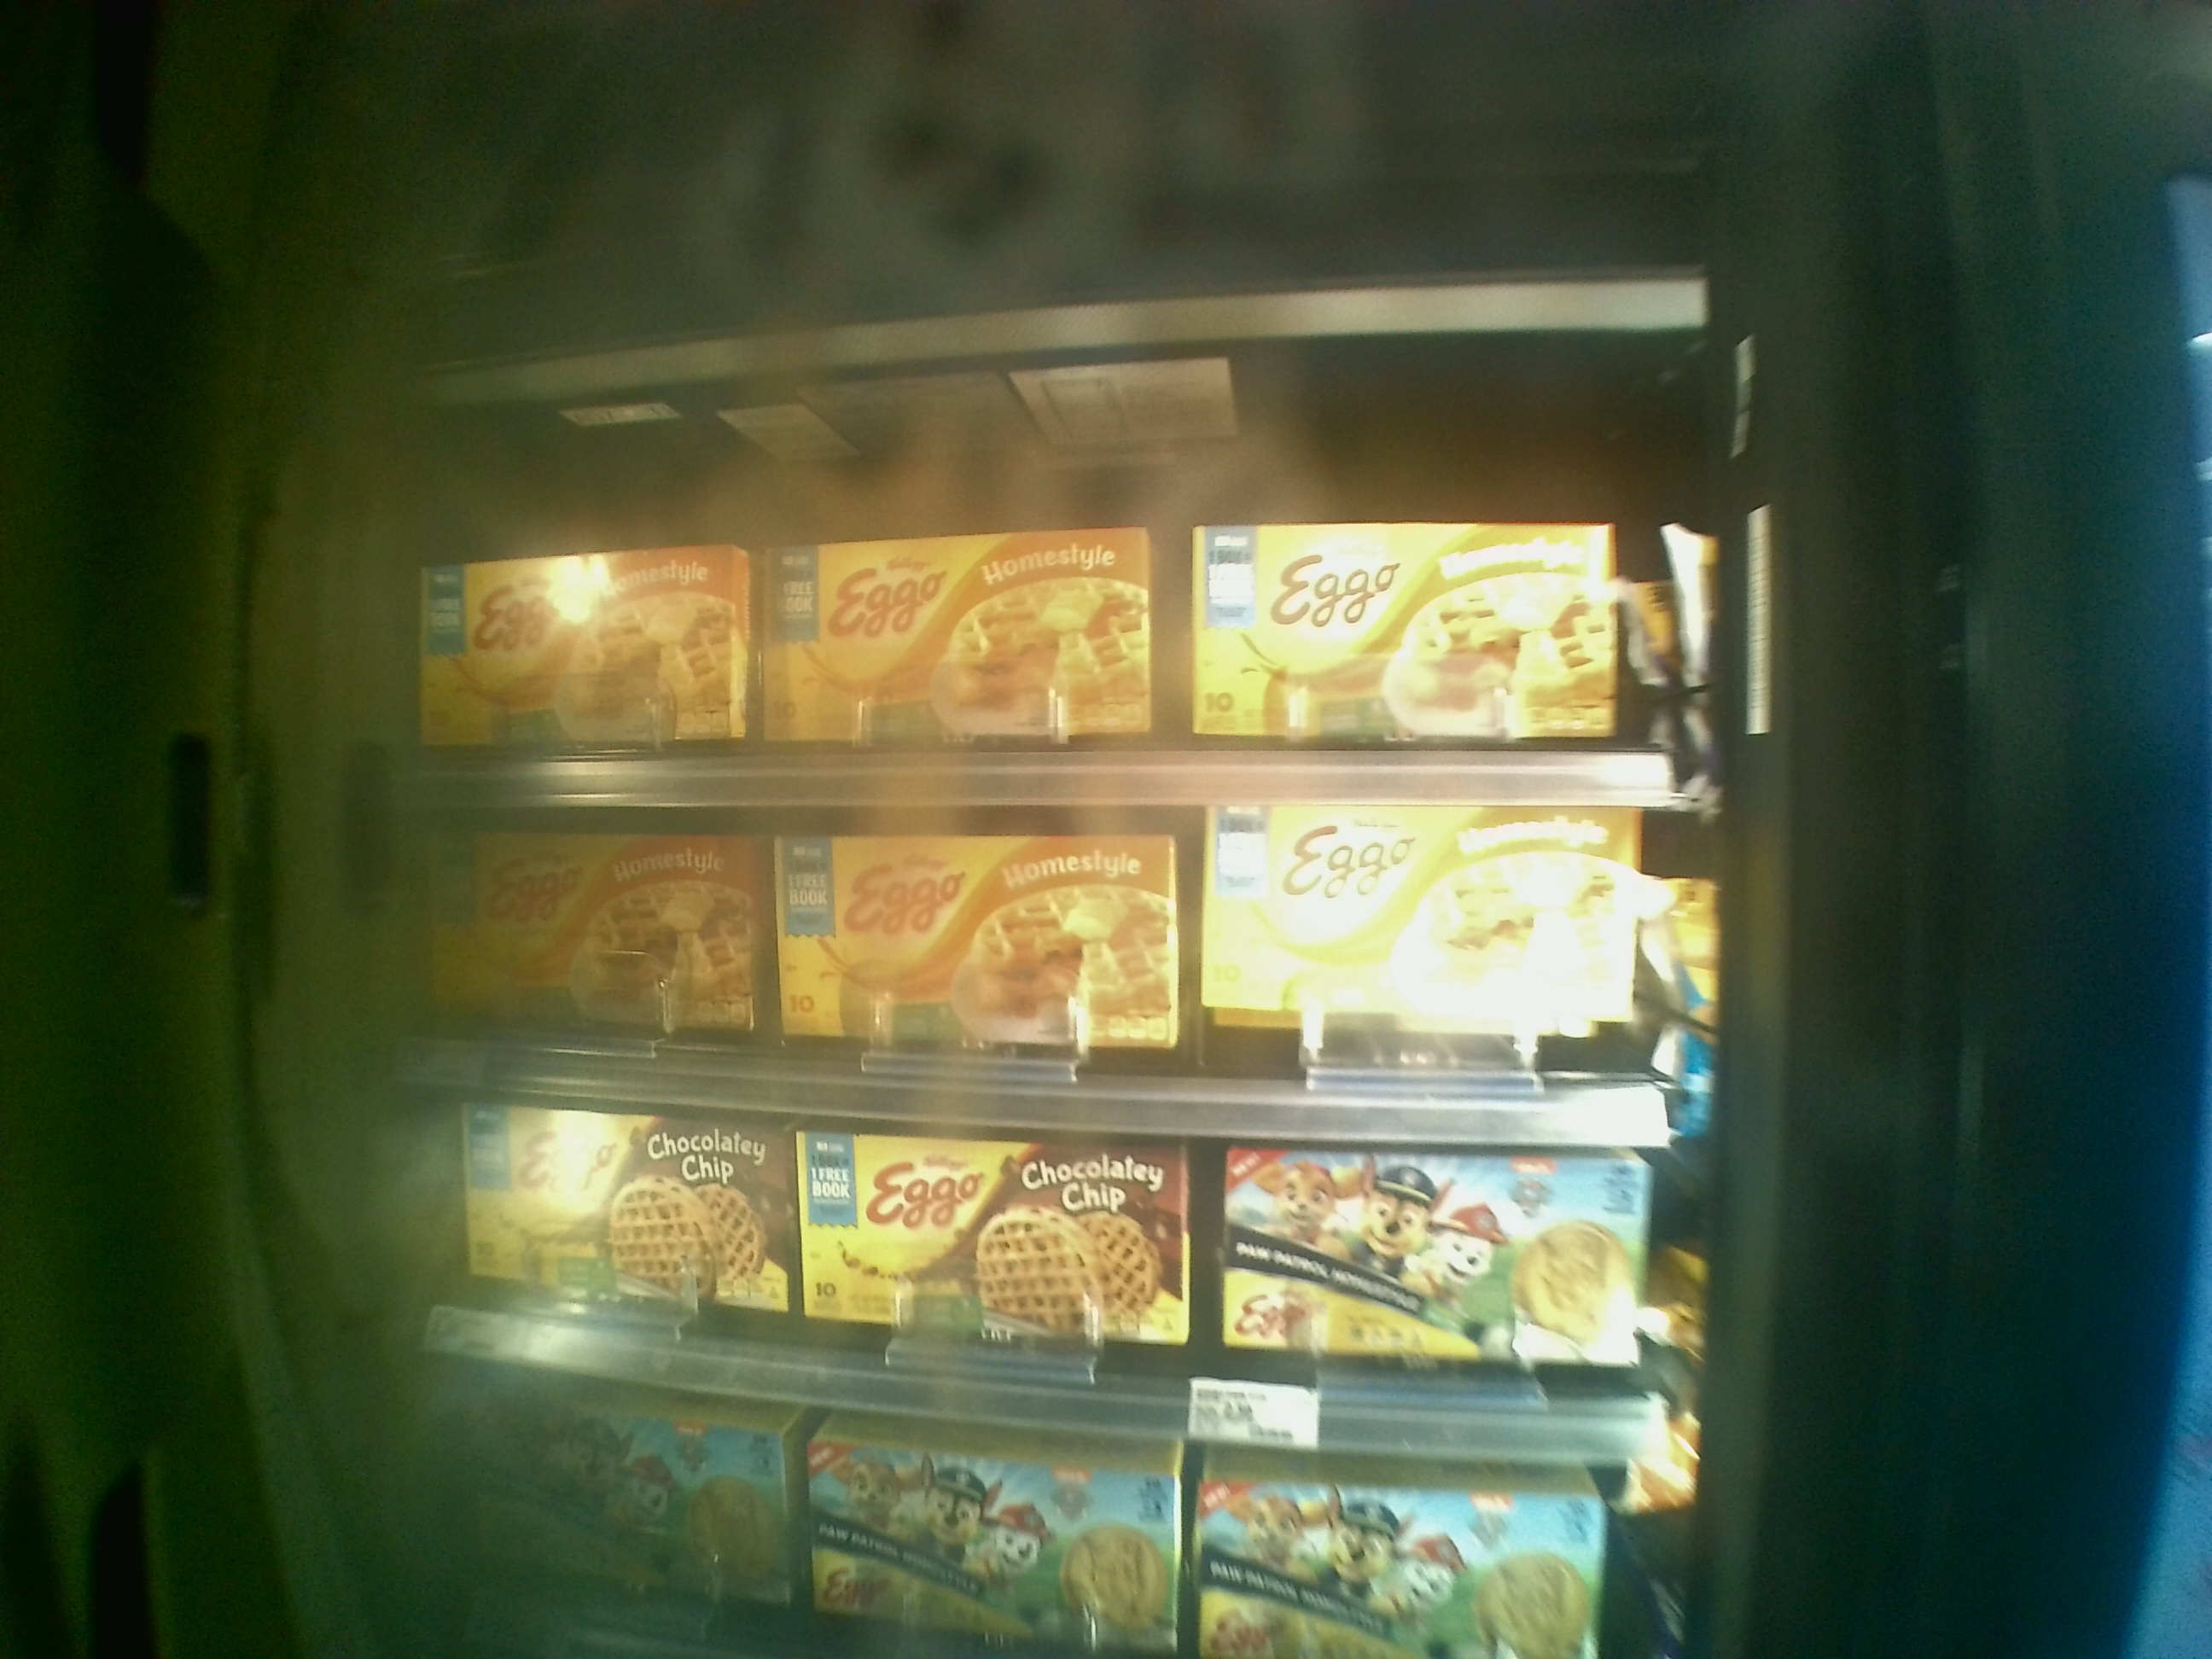shelf: (421, 788, 1686, 1148)
